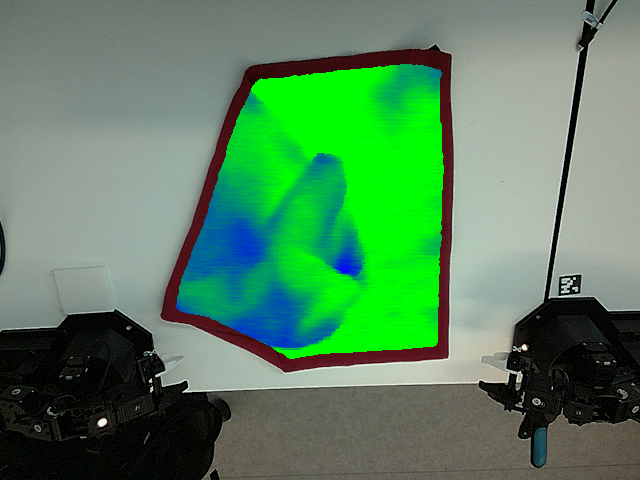V: (257, 198, 294, 251)
